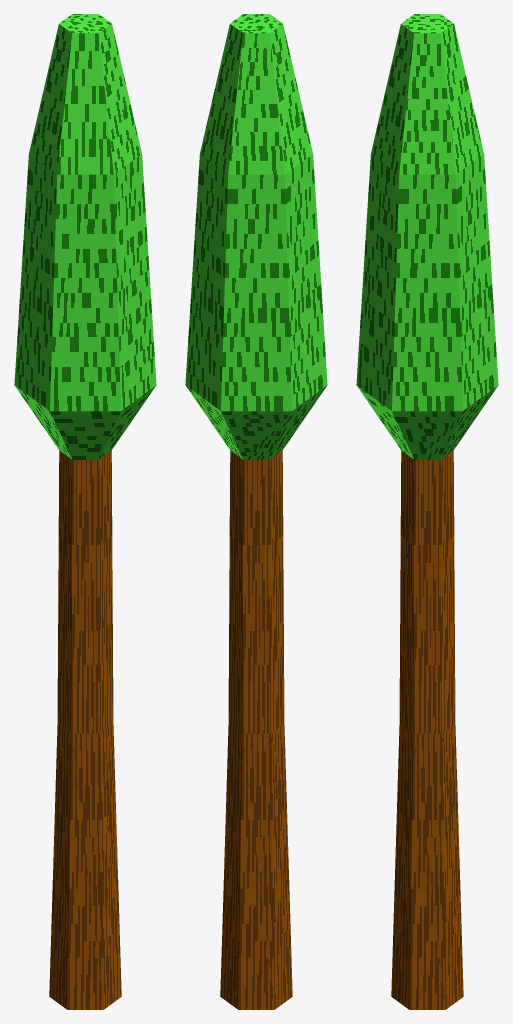
Rendered from tree.obj.
3 views of the same model, side by side, from view 1: azimuth 30°, elevation 25°; view 2: azimuth 150°, elevation 25°; view 3: azimuth 270°, elevation 25° (orthographic).
Visible parts, largest first — view 1: Tree2_Cylinder.001; view 2: Tree2_Cylinder.001; view 3: Tree2_Cylinder.001.
Boxes of the visible parts, bbox=[...] form: Tree2_Cylinder.001: bbox=[14, 14, 156, 1009]; Tree2_Cylinder.001: bbox=[185, 14, 327, 1009]; Tree2_Cylinder.001: bbox=[356, 14, 498, 1009].
Bounding box in the file's own units: 1.12 × 9.76 × 1.29.
